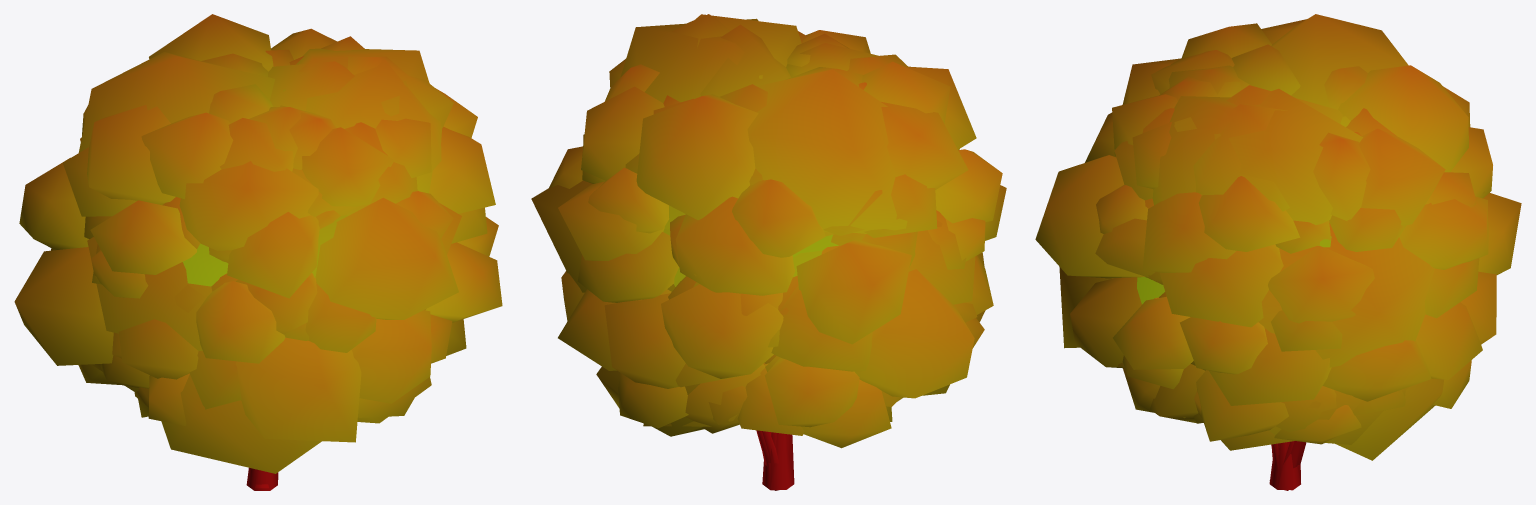
File: holmoak.glb
3 views of the same model, side by side, from view 1: azimuth 30°, elevation 25°; view 2: azimuth 150°, elevation 25°; view 3: azimuth 270°, elevation 25° (orthographic). The views are drawn at different scales.
Visible parts, largest first — view 1: v1, v0, v4, v1_far, v0_far, v4_far, v2, v2_far, v3; view 2: v1, v0, v1_far, v4, v0_far, v2, v2_far, v3, v4_far, v5; view 3: v1, v4, v0, v1_far, v0_far, v4_far, v2, v3, v2_far.
Boxes of the visible parts, bbox=[...] form: v1: bbox=[14, 14, 502, 442]; v0: bbox=[51, 49, 487, 409]; v4: bbox=[84, 36, 498, 490]; v1_far: bbox=[78, 52, 348, 473]; v0_far: bbox=[87, 48, 429, 350]; v4_far: bbox=[277, 59, 441, 479]; v2: bbox=[80, 56, 461, 488]; v2_far: bbox=[174, 61, 354, 485]; v3: bbox=[162, 53, 272, 490]; v1: bbox=[558, 14, 1006, 448]; v0: bbox=[577, 31, 985, 448]; v1_far: bbox=[531, 69, 985, 395]; v4: bbox=[549, 30, 993, 490]; v0_far: bbox=[596, 18, 975, 436]; v2: bbox=[663, 43, 977, 490]; v2_far: bbox=[700, 24, 942, 467]; v3: bbox=[670, 67, 862, 489]; v4_far: bbox=[664, 14, 839, 486]; v5: bbox=[668, 233, 865, 364]; v1: bbox=[1035, 19, 1521, 444]; v4: bbox=[1070, 94, 1482, 490]; v0: bbox=[1085, 50, 1496, 450]; v1_far: bbox=[1258, 14, 1434, 367]; v0_far: bbox=[1174, 88, 1443, 460]; v4_far: bbox=[1152, 96, 1403, 488]; v2: bbox=[1095, 65, 1485, 490]; v3: bbox=[1146, 44, 1367, 488]; v2_far: bbox=[1226, 85, 1342, 467].
Bounding box in the file's own units: 11.68 × 11.61 × 11.63.
